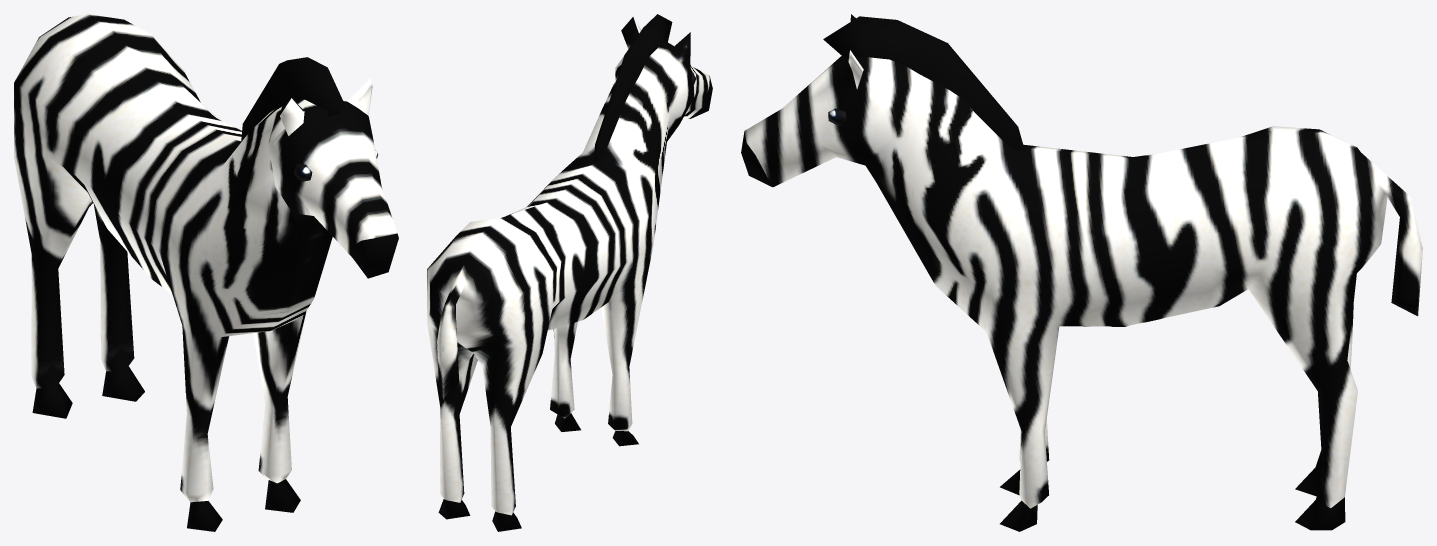
File: Zebra.glb
The picture shows the model from 3 angles, left to right: view 1: azimuth 30°, elevation 25°; view 2: azimuth 150°, elevation 25°; view 3: azimuth 270°, elevation 25°; orthographic projection. The views are drawn at different scales.
Parts seen in each view (by area): view 1: Zebra; view 2: Zebra; view 3: Zebra.
Part boxes in pixels (left/top/right/bottom): Zebra: left=14, top=14, right=398, bottom=531; Zebra: left=427, top=14, right=712, bottom=531; Zebra: left=741, top=14, right=1422, bottom=531.
Size of what is drawn, in the model's own units: 0.6086 by 2.09 by 2.64.
Materials: 2 (2 with a texture image).
